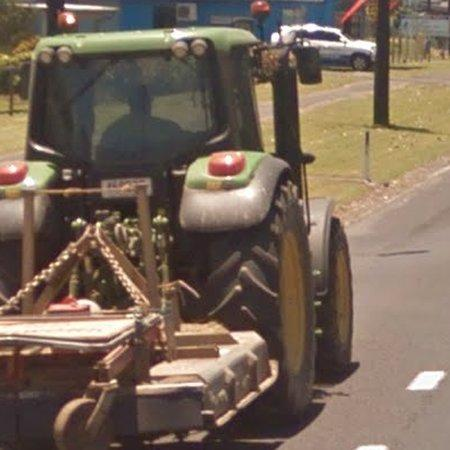tractors: (0, 27, 354, 450)
